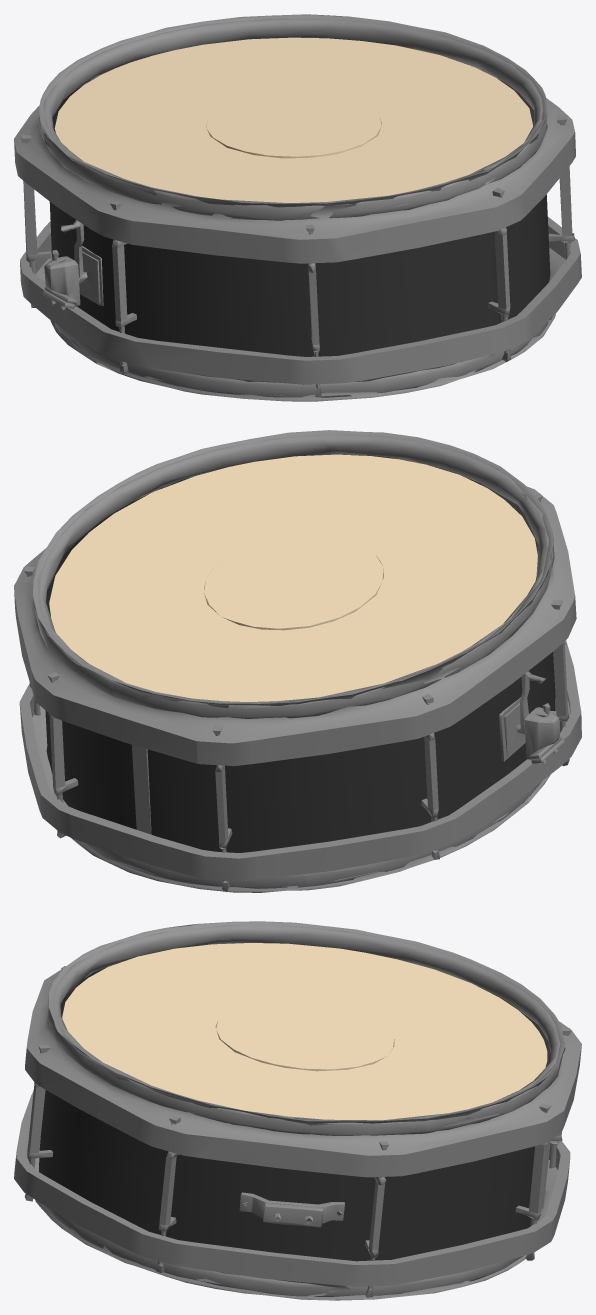
The model's file is SM_DrumKit_V1_snare.FBX.
3 views of the same model, one above another, from view 1: azimuth 30°, elevation 25°; view 2: azimuth 150°, elevation 25°; view 3: azimuth 270°, elevation 25° (orthographic). The views are drawn at different scales.
Visible parts, largest first — view 1: SM_DrumKit_V1_snare; view 2: SM_DrumKit_V1_snare; view 3: SM_DrumKit_V1_snare.
Boxes of the visible parts, bbox=[...] form: SM_DrumKit_V1_snare: bbox=[14, 14, 581, 401]; SM_DrumKit_V1_snare: bbox=[14, 430, 581, 892]; SM_DrumKit_V1_snare: bbox=[14, 921, 581, 1300].
Bounding box in the file's own units: 51.85 × 55.36 × 23.81.
